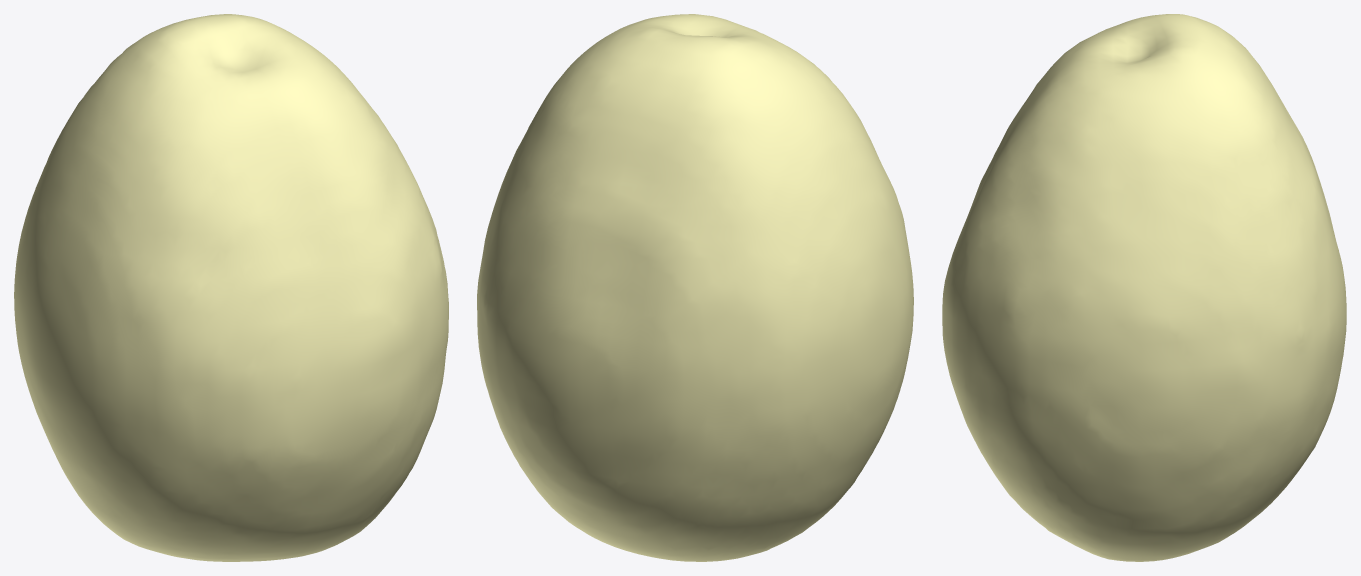
File: FixBump.glb
The picture shows the model from 3 angles, left to right: view 1: azimuth 30°, elevation 25°; view 2: azimuth 150°, elevation 25°; view 3: azimuth 270°, elevation 25°; orthographic projection. The views are drawn at different scales.
Visible parts, largest first — view 1: Avocado_Skin; view 2: Avocado_Skin; view 3: Avocado_Skin.
Boxes of the visible parts, bbox=[...] form: Avocado_Skin: bbox=[14, 14, 448, 561]; Avocado_Skin: bbox=[477, 14, 913, 561]; Avocado_Skin: bbox=[942, 14, 1346, 561].
Size of the model in its own units: 0.6411 by 0.8629 by 0.6323.
